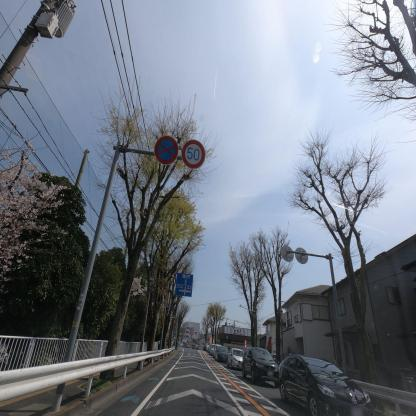Someiyoshino: (0, 126, 76, 284), (129, 274, 147, 297)
